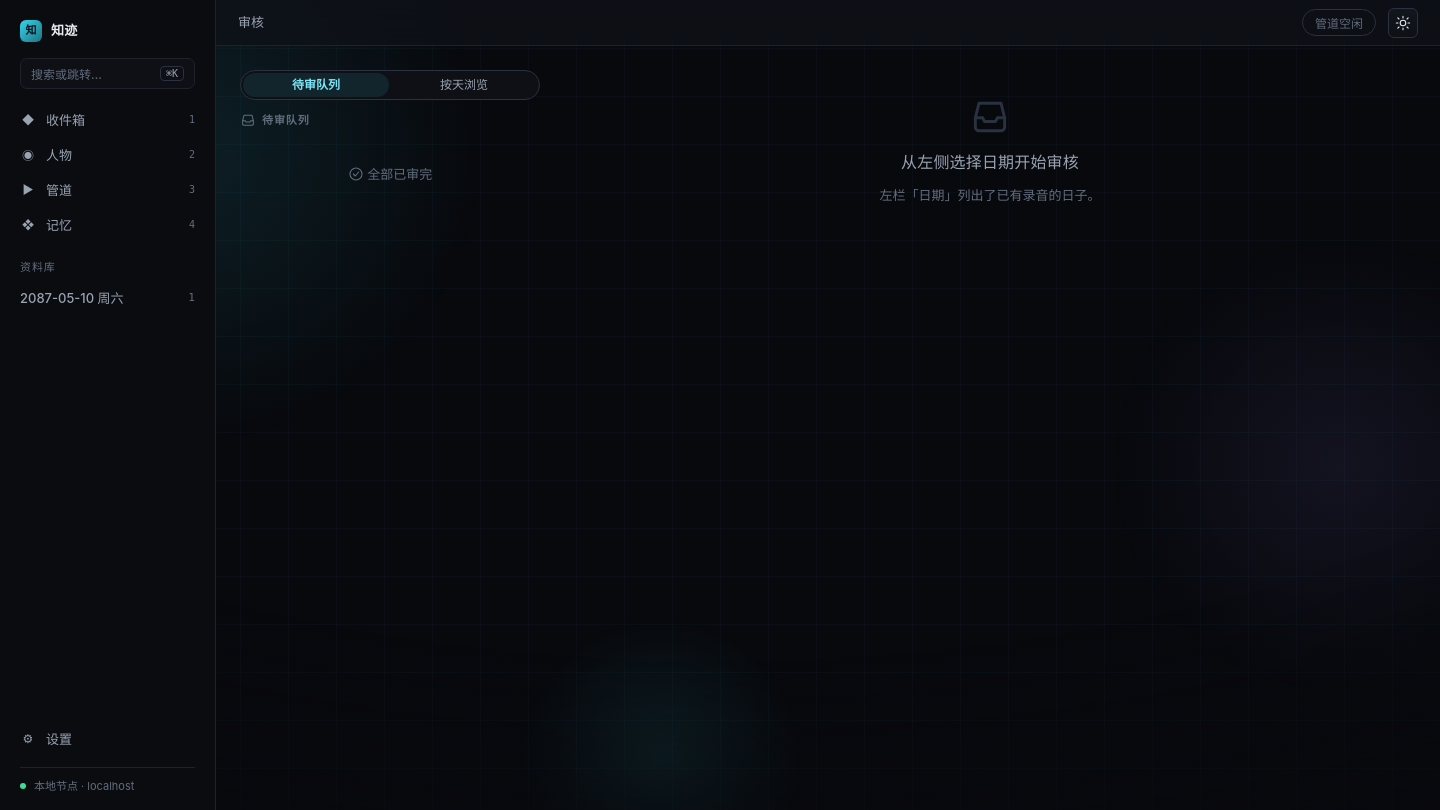
Test: App container › undo restores a batch-accepted turn back to pending (clearReview) and refetches
The width and height of the screenshot is (1440, 810).
What coordinates should you click on to do the following:
click the tab "按天浏览"
I would click on:
 (464, 85)
Its box is [391, 73, 537, 97].
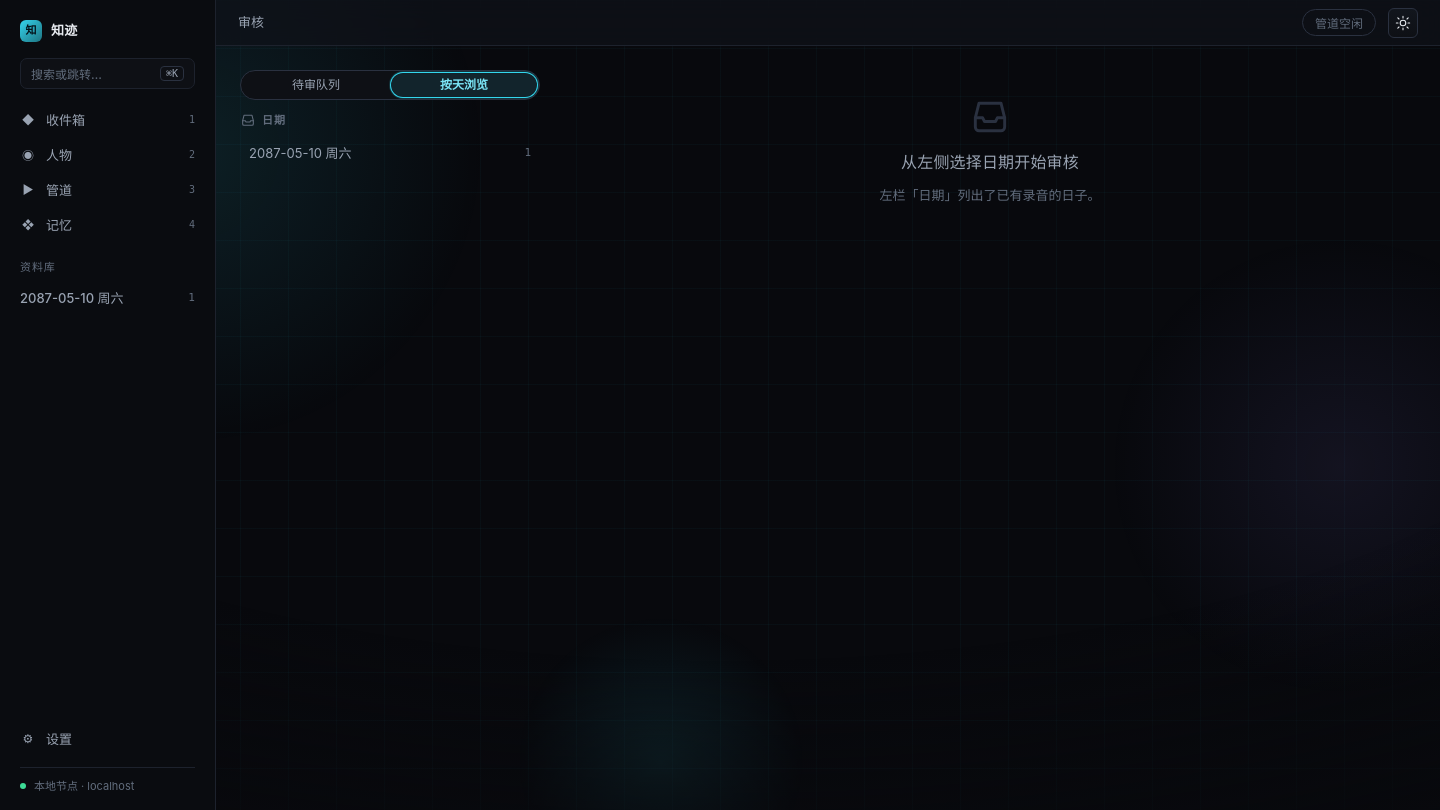
What coordinates should you click on to do the following:
click the button "2087-05-10 周六 1" in the row of "从左侧选择日期开始审核"
I would click on:
 (300, 152)
Its box is [240, 136, 540, 170].
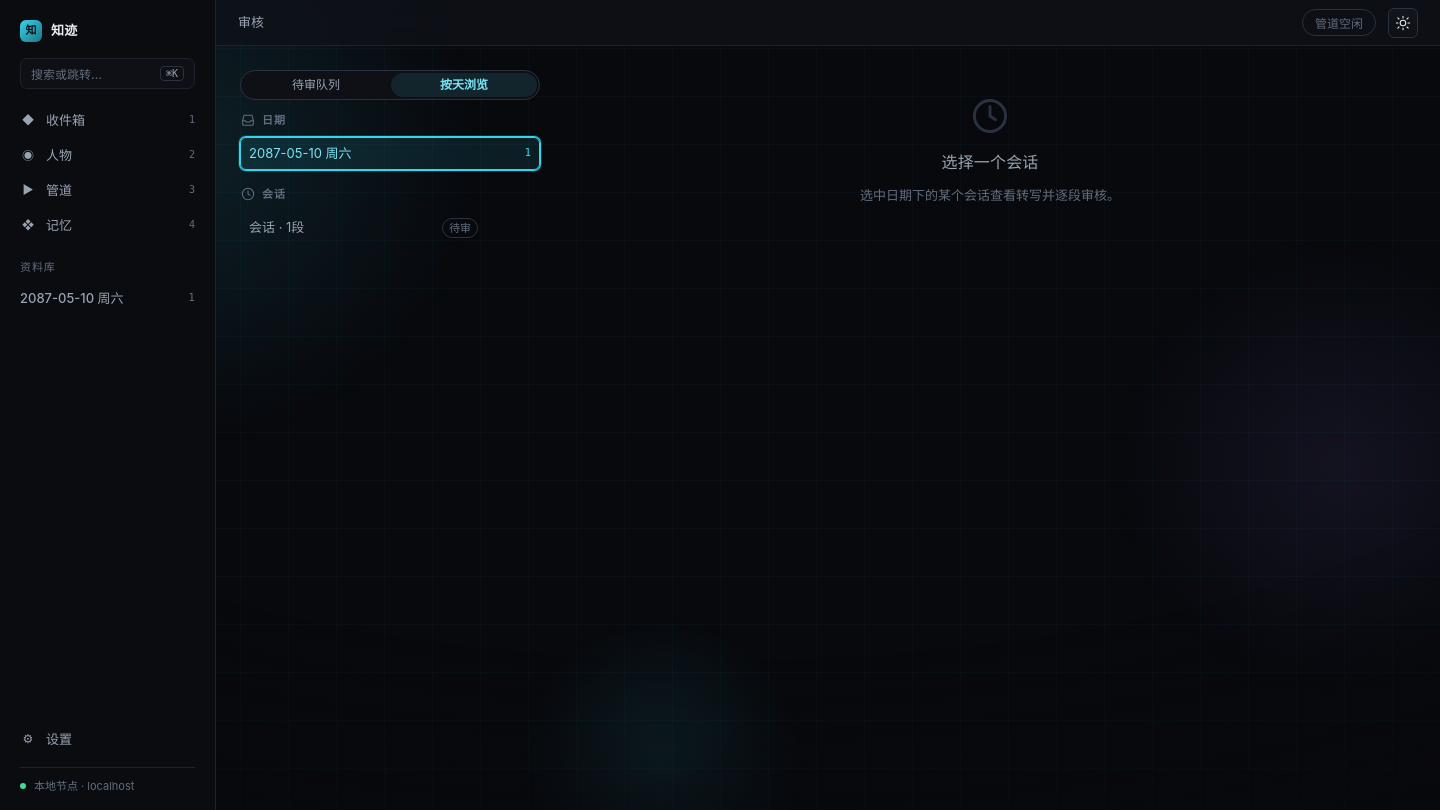
What coordinates should you click on to do the following:
click the button with aria-label "ses_1"
I would click on:
 (364, 228)
Its box is [240, 210, 487, 245].
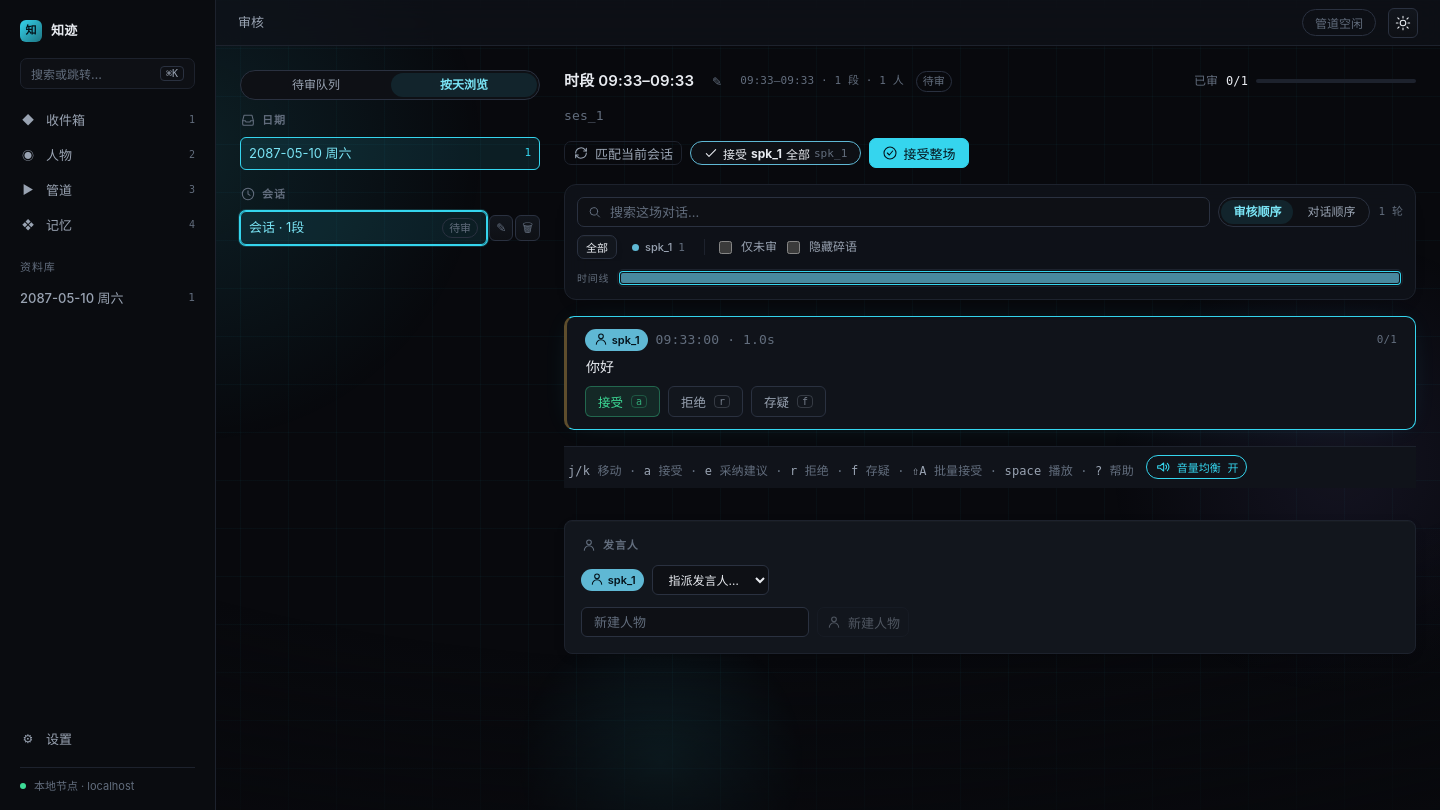
What coordinates should you click on to do the following:
click the button "接受 a"
I would click on:
 (622, 401)
Its box is [585, 386, 660, 417].
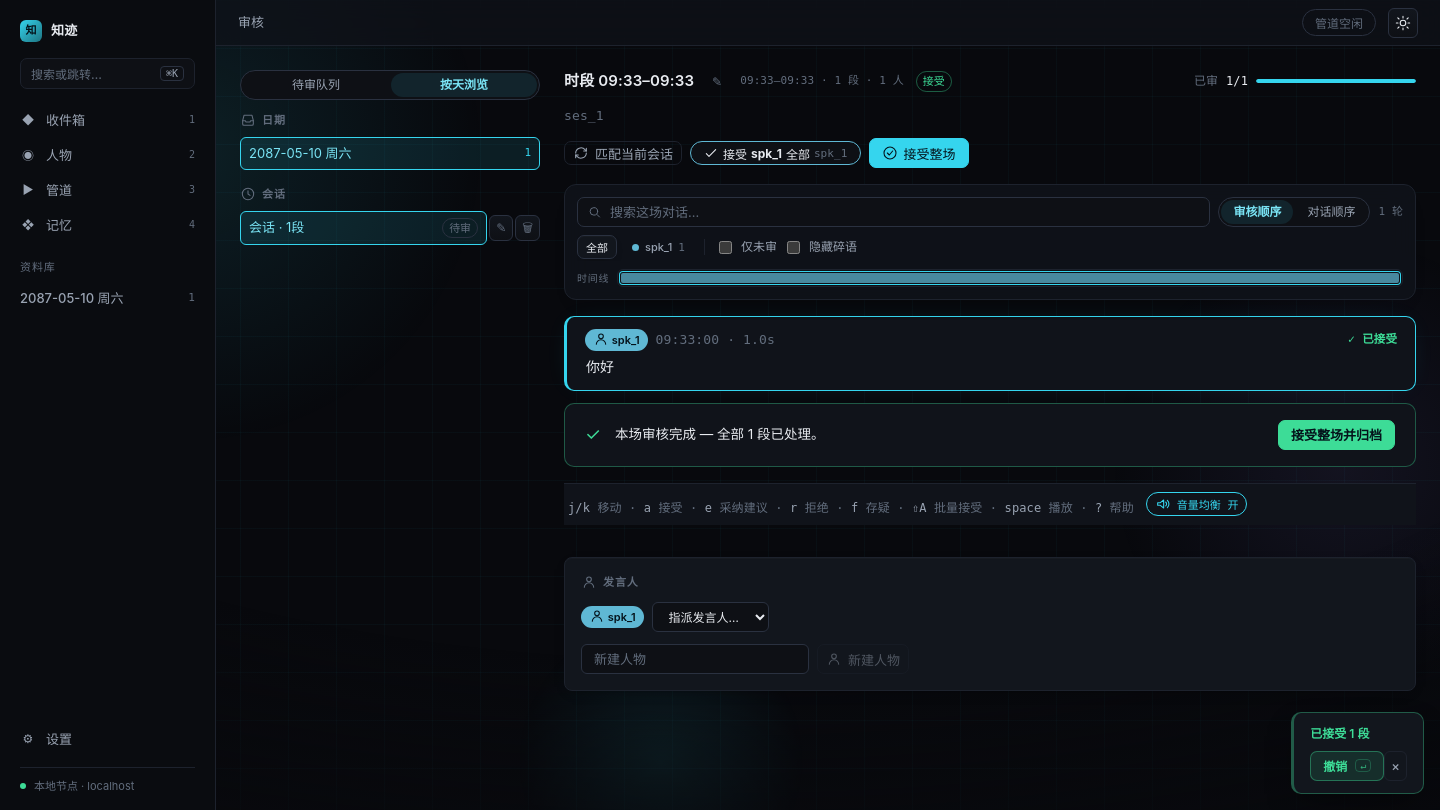
Expected: the text "✓ 已接受" is shown, [1348, 331, 1397, 348]
What coordinates should you click on to do the following:
click the button "撤销 ↵"
I would click on:
 (1347, 766)
Its box is [1310, 750, 1384, 780].
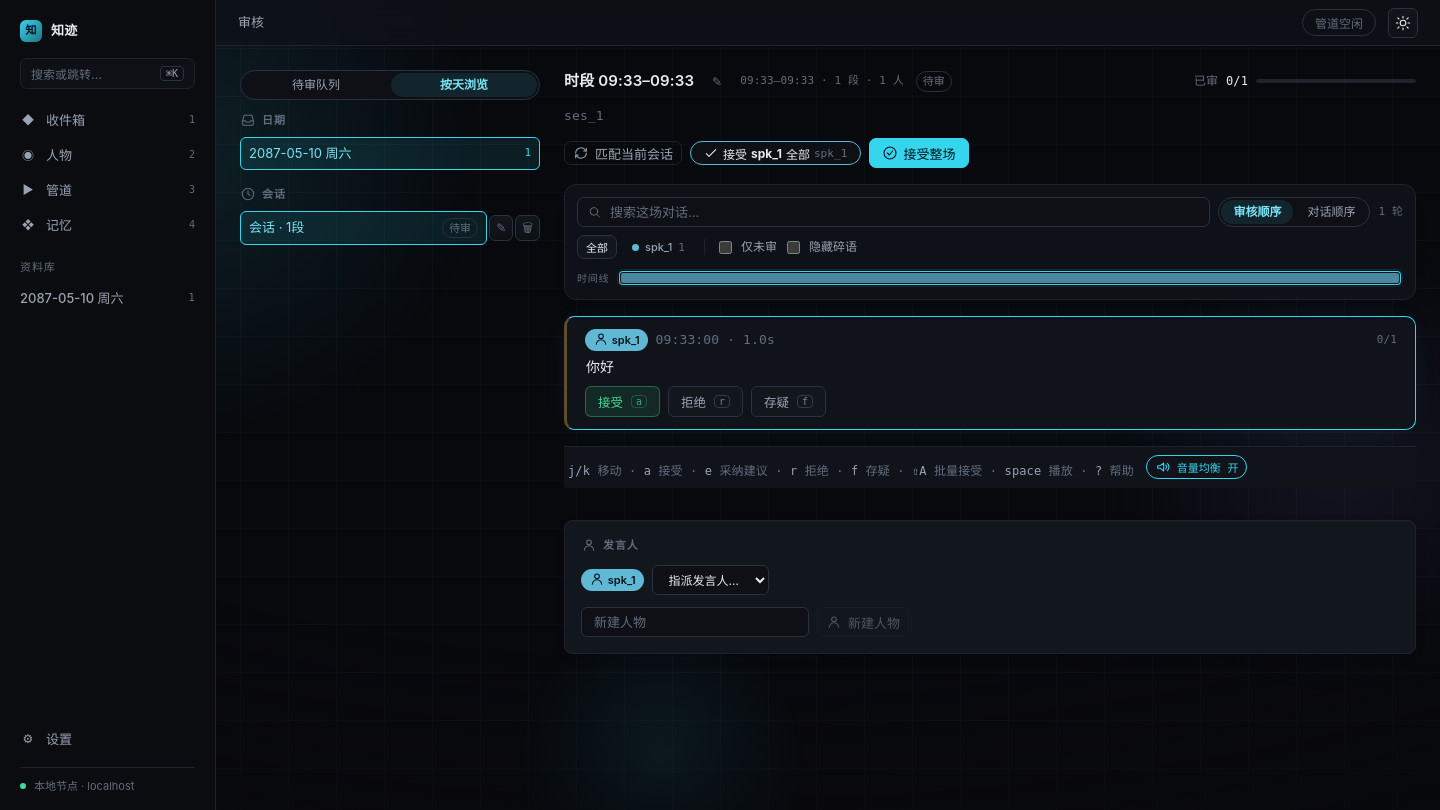
Expected: the text "✓ 已接受" in the row of "1.0" reads "0/1", [1377, 332, 1397, 348]
